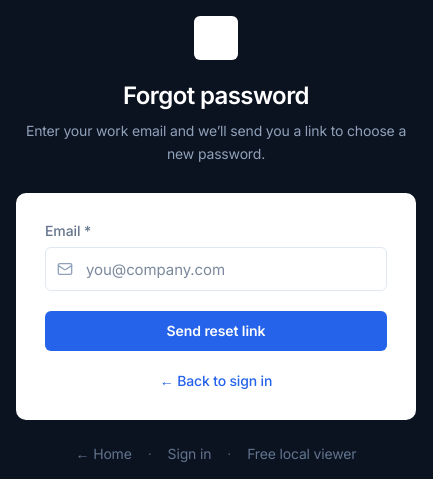
Test: ForgotPasswordPage › requests a reset link and shows the generic confirmation state
The width and height of the screenshot is (433, 479).
Step 1. Type "user@example.com" into the field labelled "Email *" → coordinates (216, 269), box [45,247,387,291]
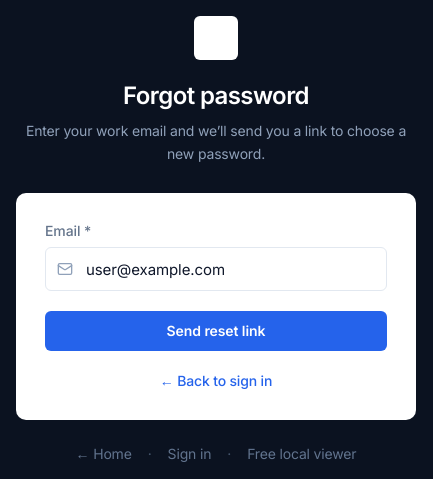
Step 2. Click the button "Send reset link" → coordinates (216, 331), box [45,311,387,351]
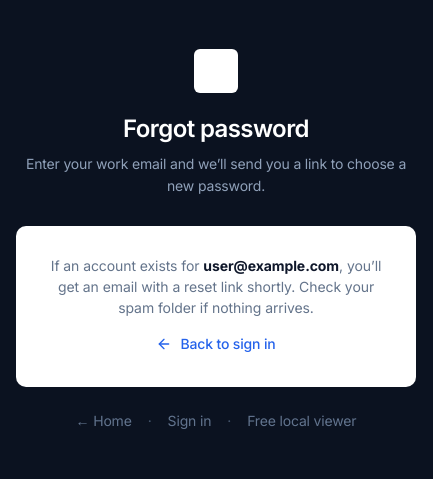
Expected: the text "If an account exists for" is shown, [51,257,203,274]
Expected: the text "user@example.com" is shown, [203,257,339,274]
